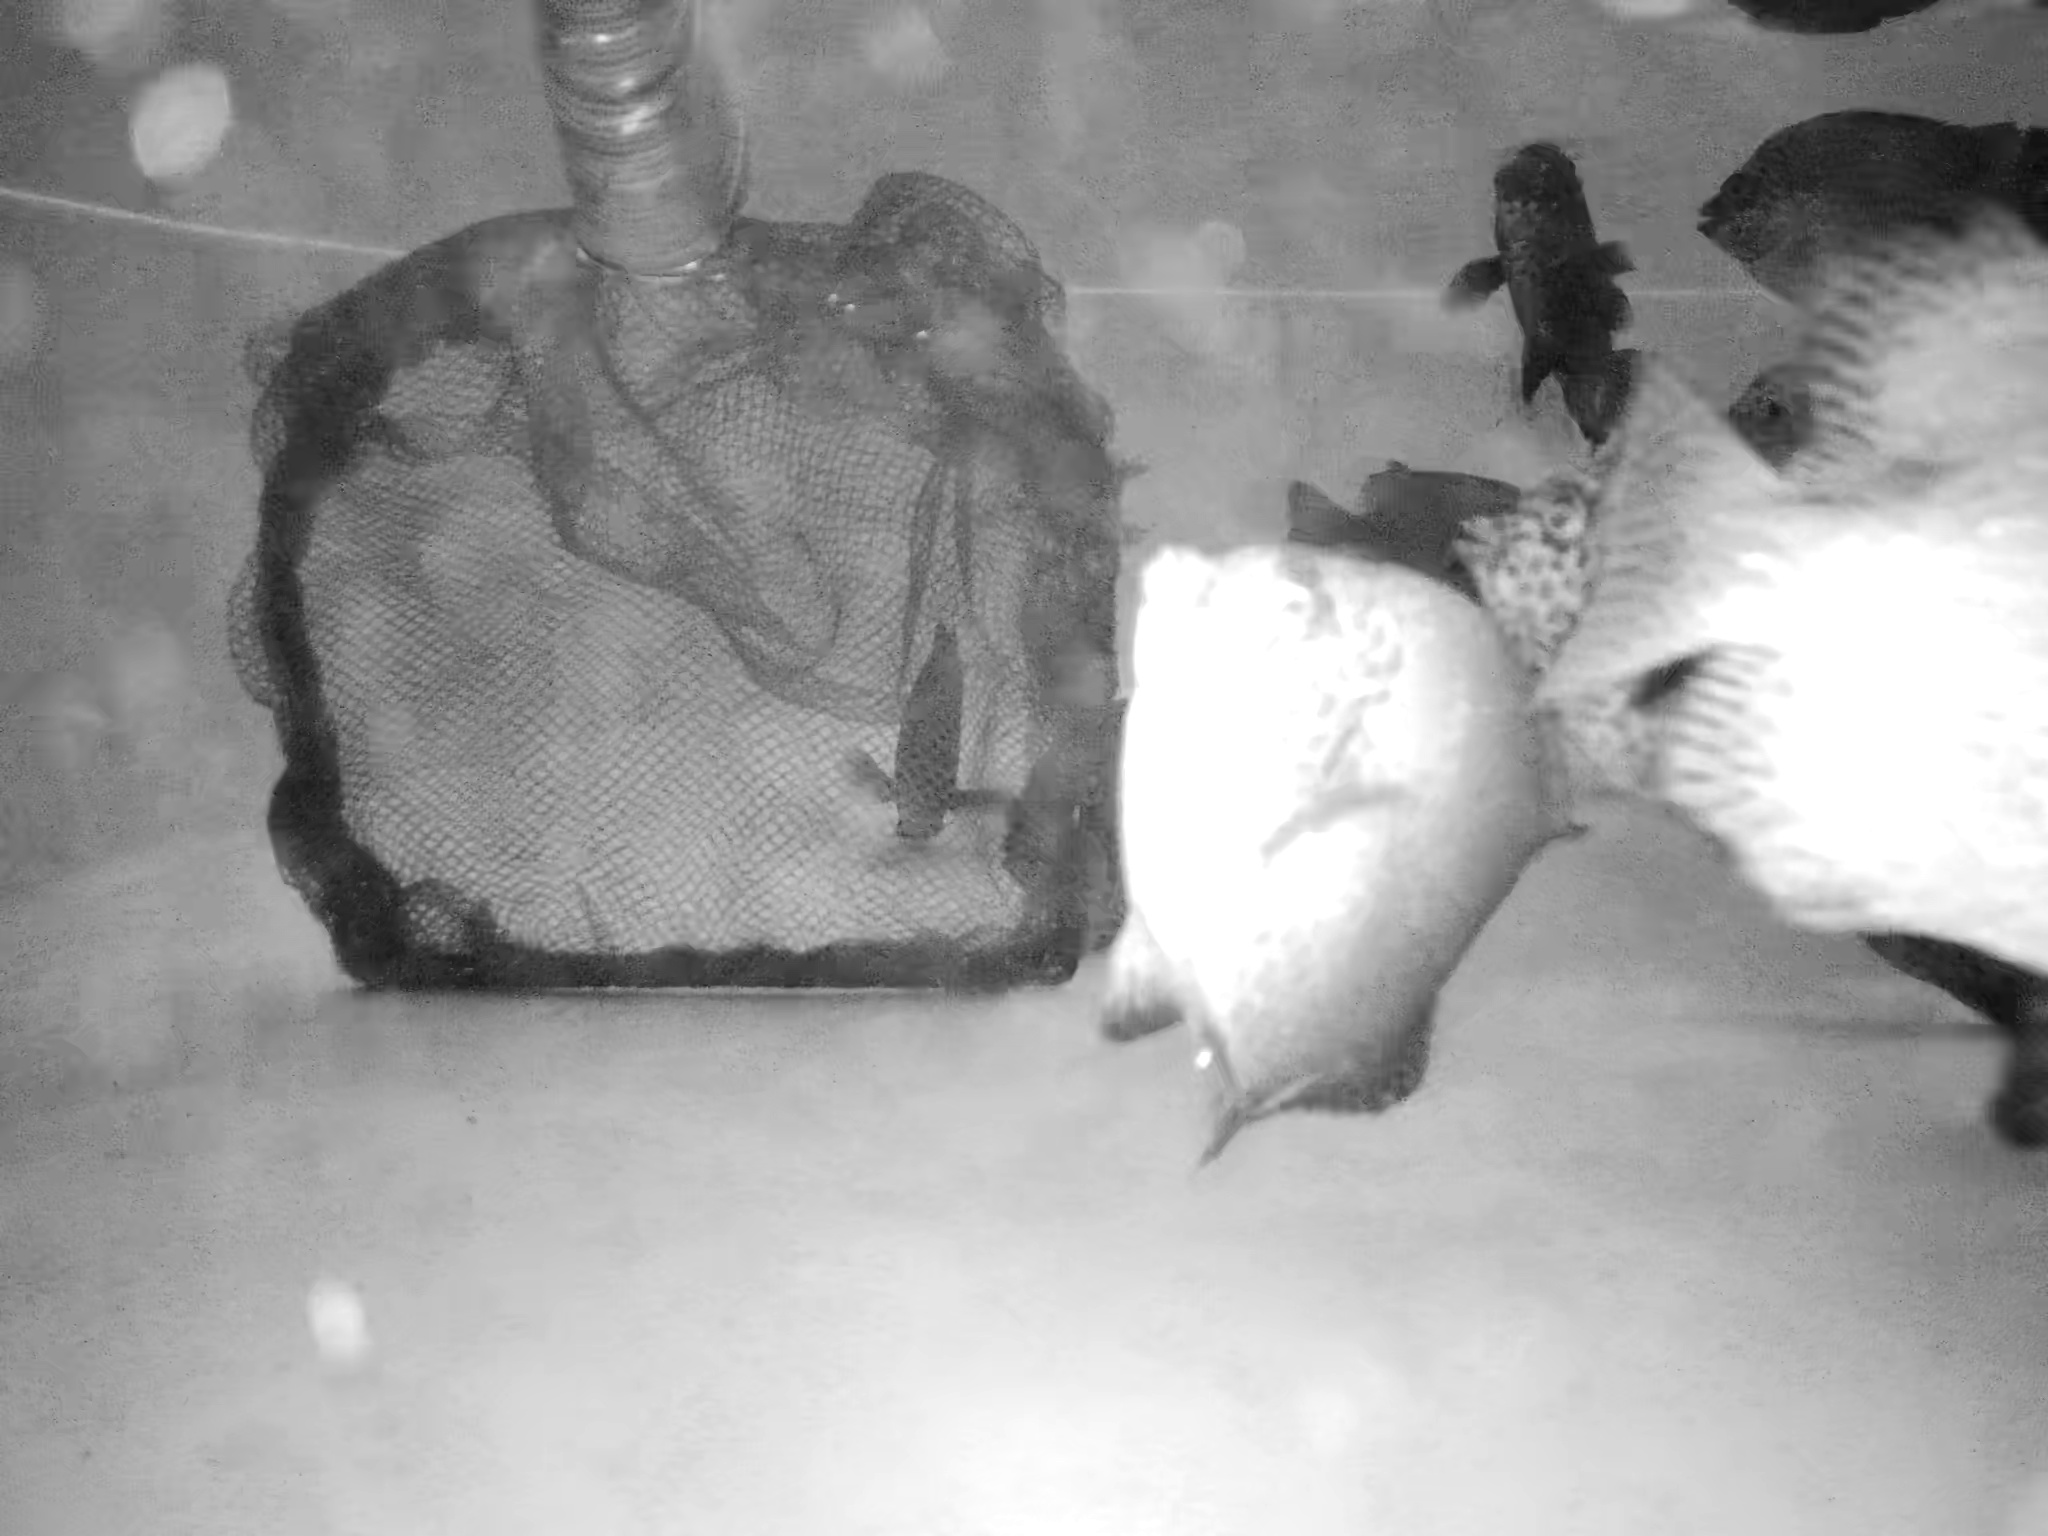fish: (1548, 213, 2048, 970), (1085, 513, 1553, 1139), (1442, 421, 1666, 837), (1680, 100, 2048, 318), (1445, 115, 1624, 411), (1250, 434, 1532, 605), (1700, 358, 1950, 521), (985, 713, 1135, 905), (868, 618, 995, 837)
